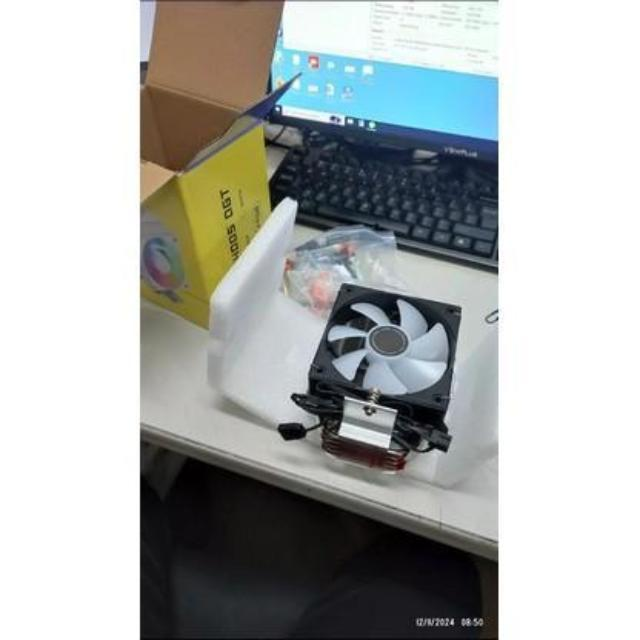CPU_Fan: (288, 283, 466, 454)
